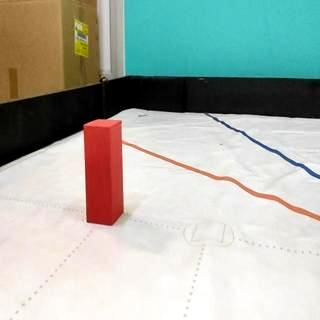redbox: (84, 119, 124, 227)
